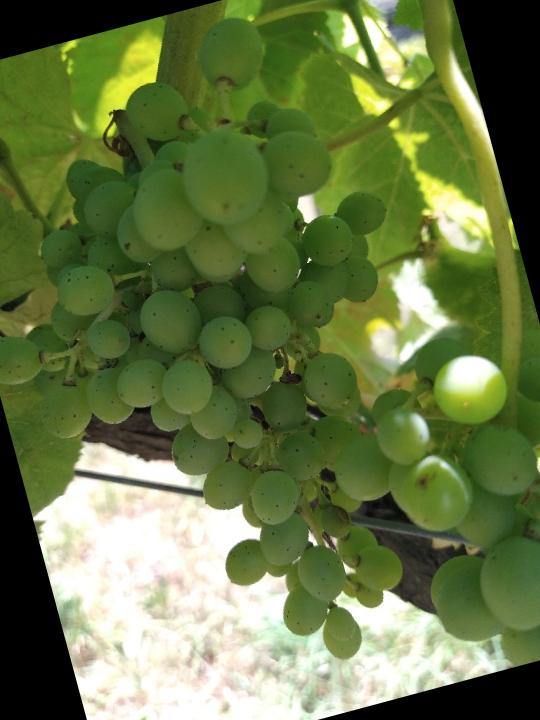grape: (0, 0, 499, 720)
